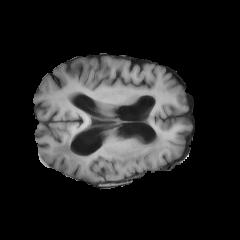glioma: (51, 136, 162, 182)
